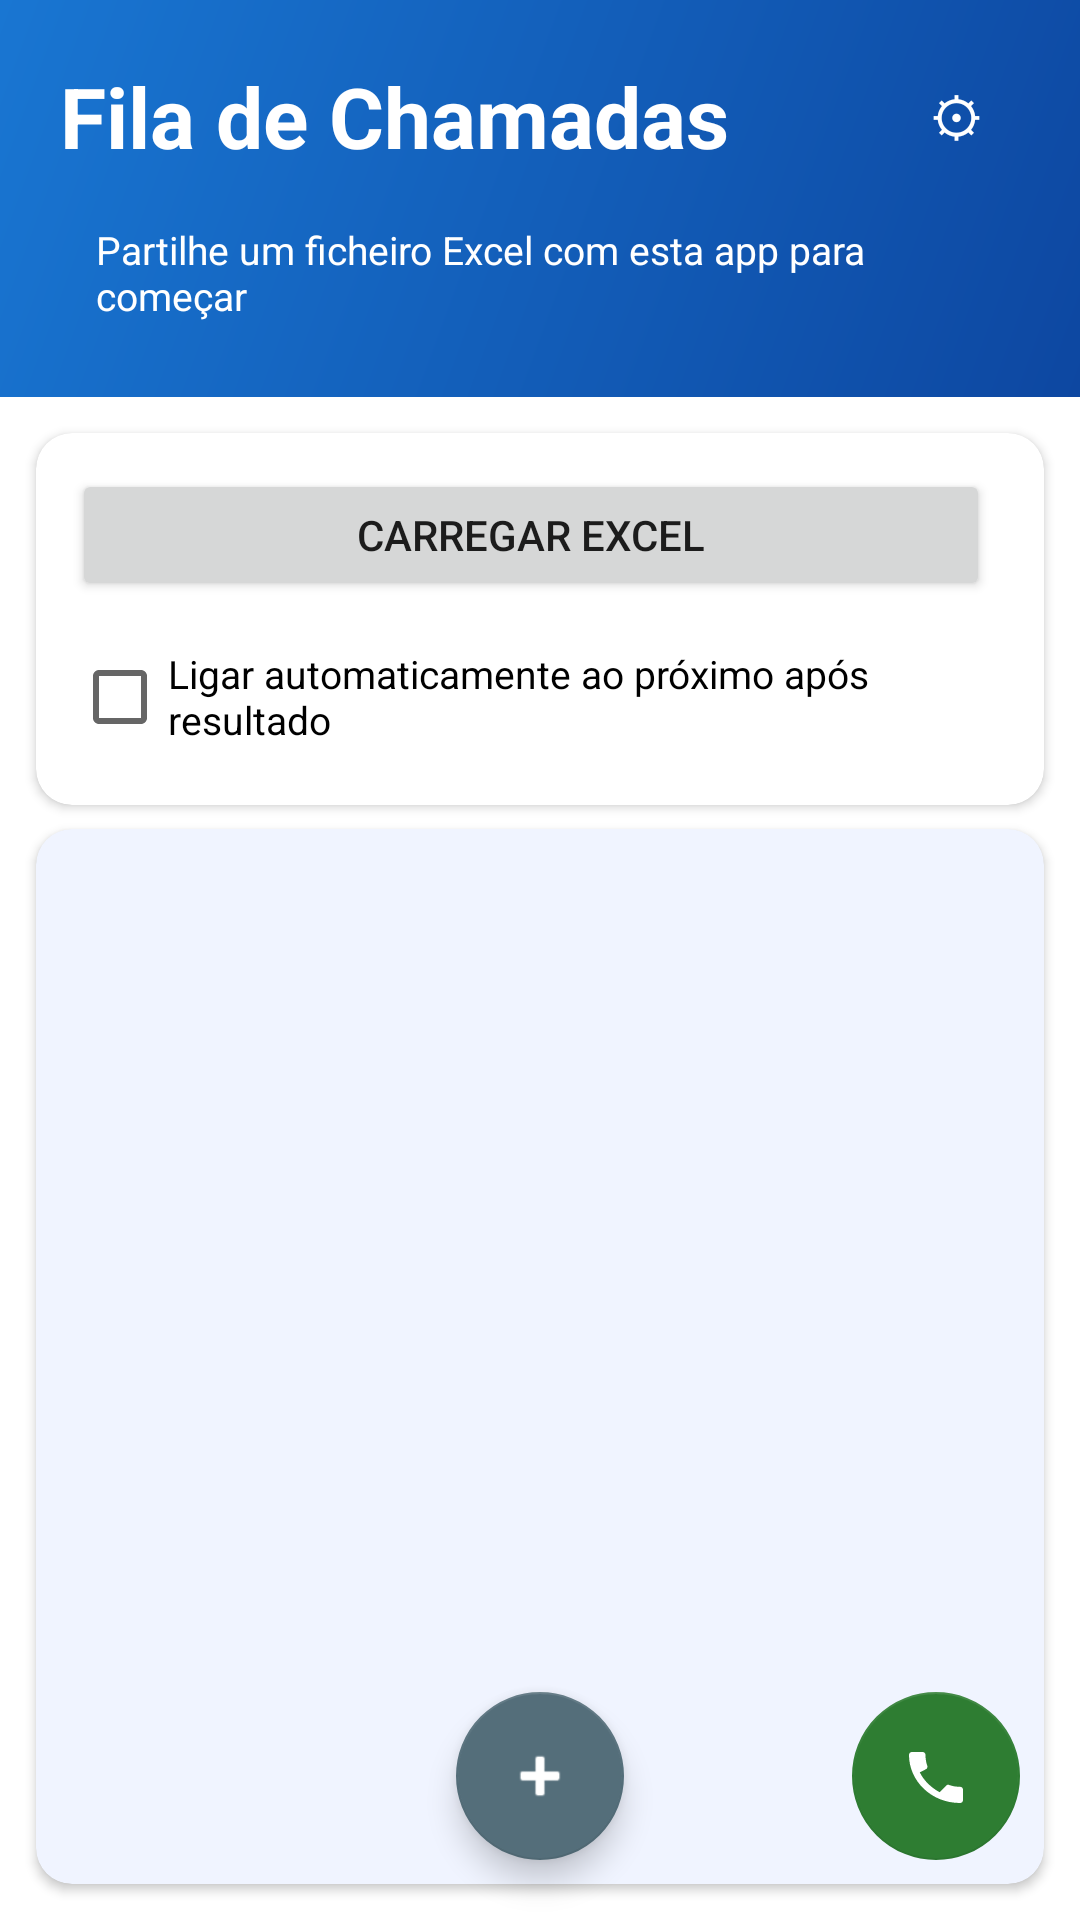

Where icons sit on this 1080w x 1920h app screen, as box(x1, y1, x2, y2):
Adicionar Contacto: box(456, 1692, 624, 1860)
Ligar ao Próximo: box(852, 1692, 1020, 1860)
